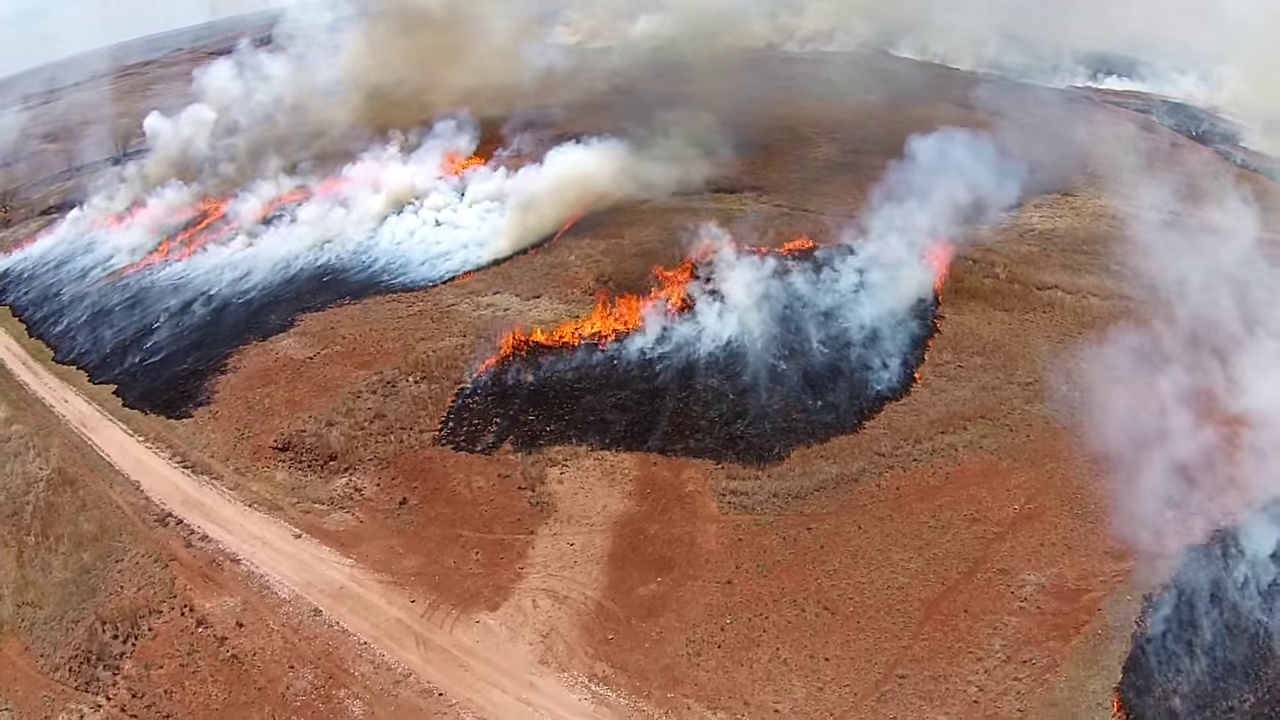forest_fire: (475, 250, 709, 376), (124, 198, 238, 271), (258, 187, 311, 221), (745, 235, 819, 256), (925, 241, 953, 293), (442, 152, 485, 176)
